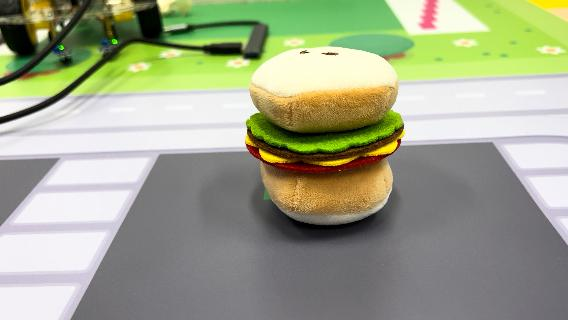sandwich: (242, 44, 408, 226)
